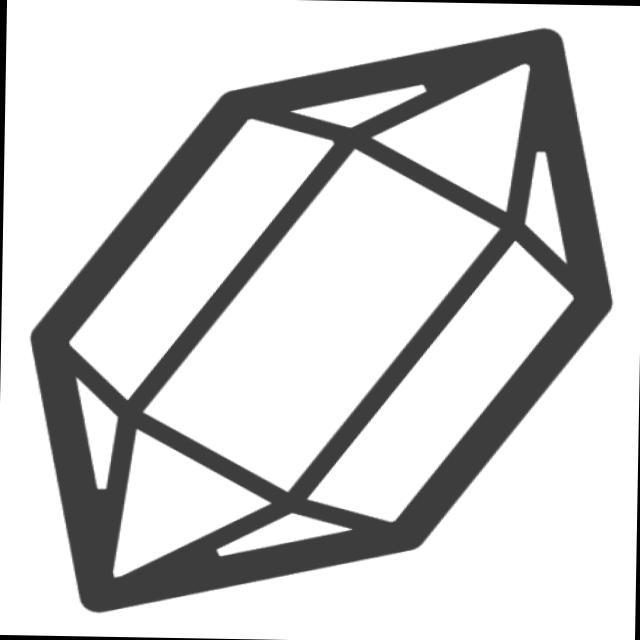crystal: (11, 3, 631, 632)
